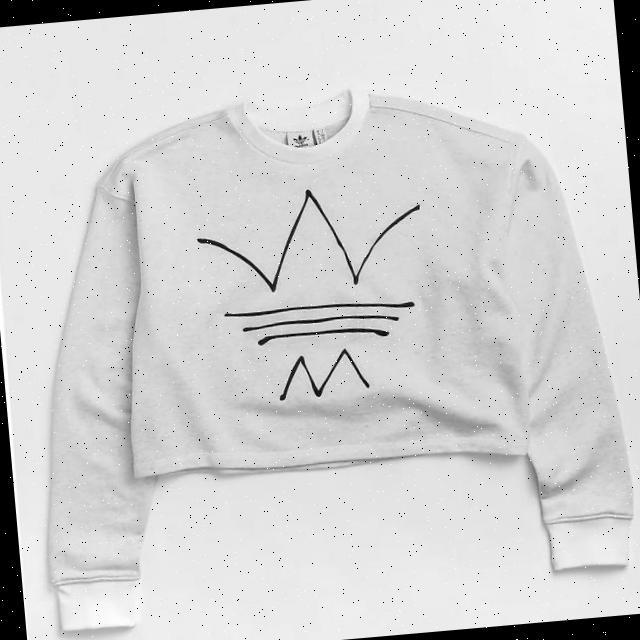Adidas: (286, 129, 312, 149)
